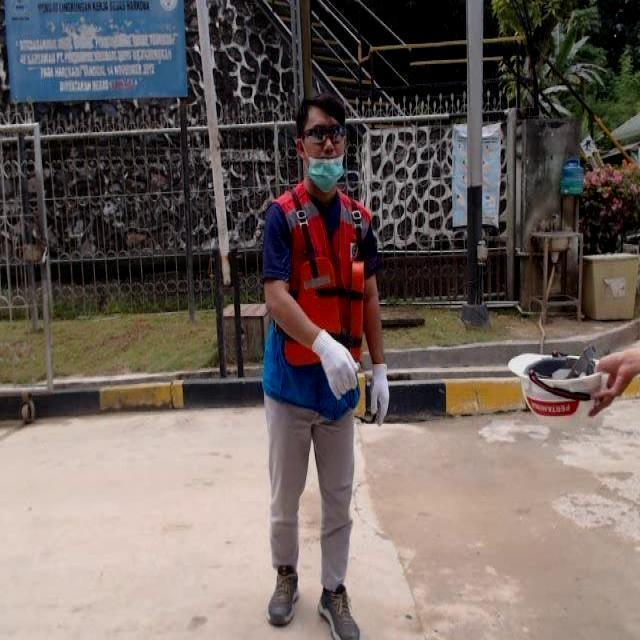vest: (264, 177, 370, 410)
